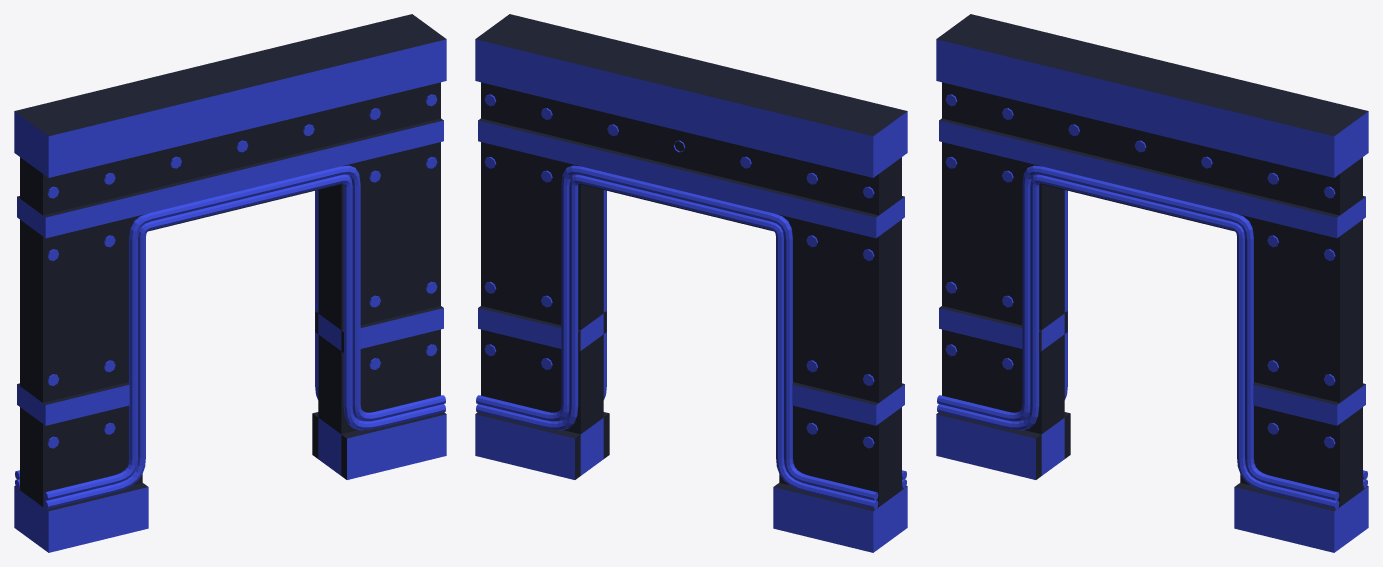
The model's file is Arch.fbx.
3 views of the same model, side by side, from view 1: azimuth 30°, elevation 25°; view 2: azimuth 150°, elevation 25°; view 3: azimuth 330°, elevation 25° (orthographic).
Visible parts, largest first — view 1: Arch; view 2: Arch; view 3: Arch.
Part boxes in pixels (box(x1,y1,x2,y2)): Arch: box(14, 14, 446, 552); Arch: box(475, 14, 907, 552); Arch: box(936, 14, 1368, 552).
Bounding box in the file's own units: 200 × 200 × 30.
